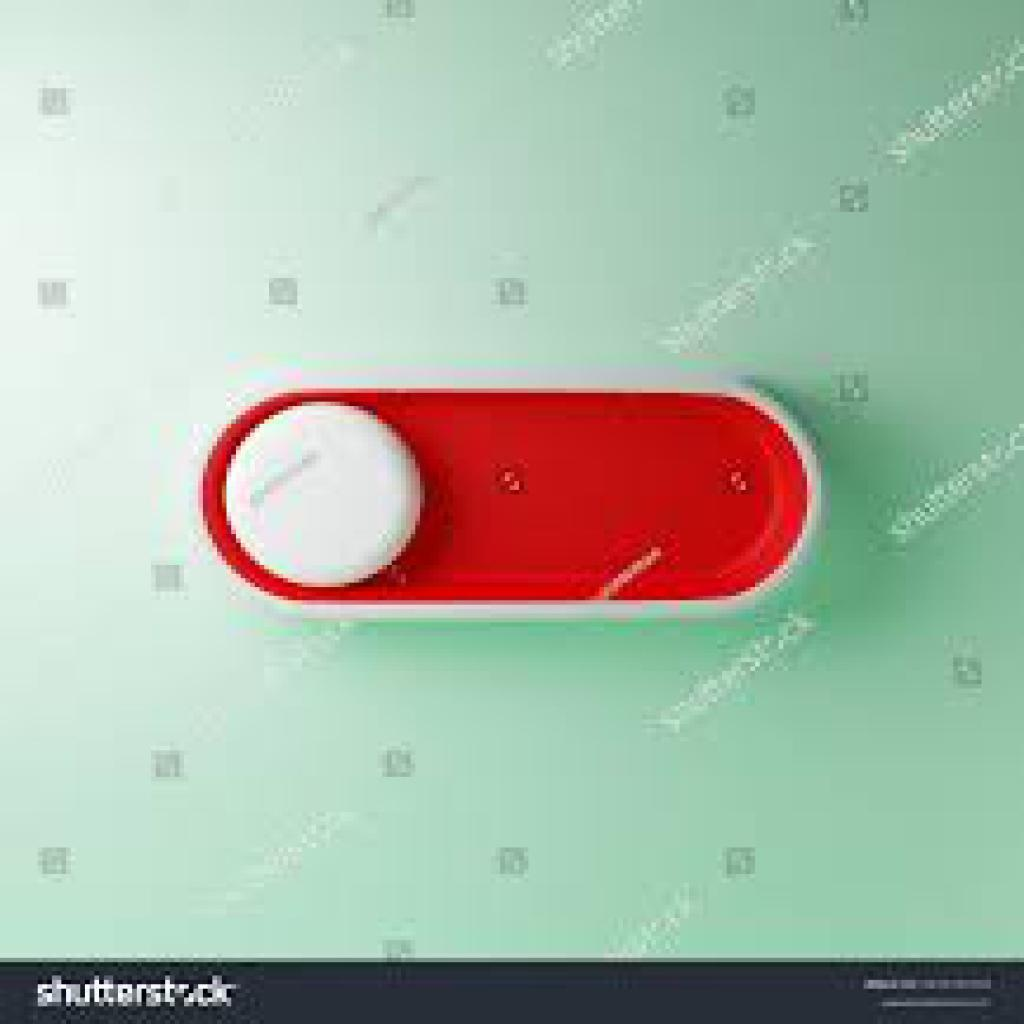switch: (198, 388, 813, 605)
